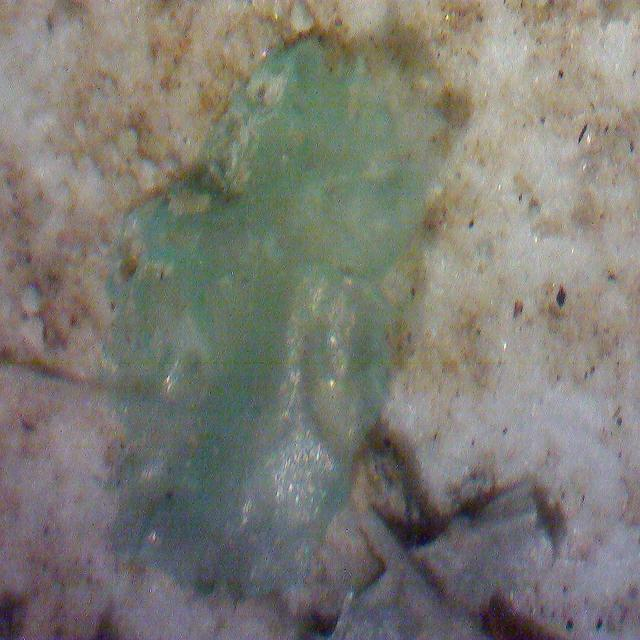microplastic: (100, 33, 450, 596)
